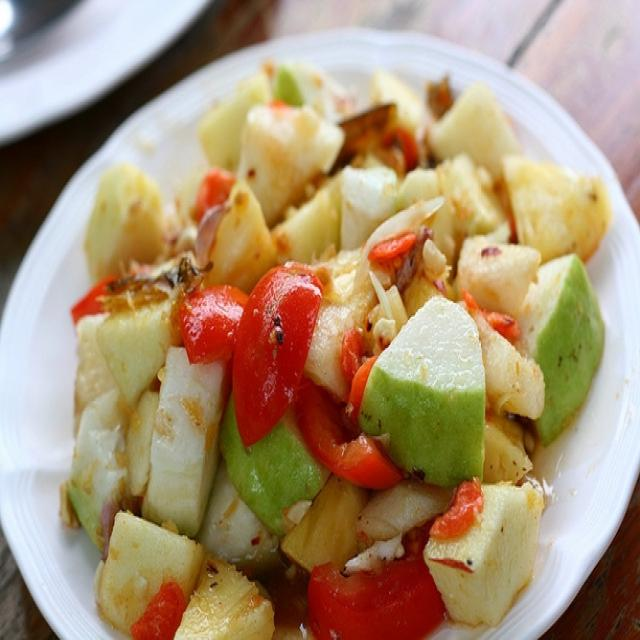蔬菜料理: (40, 43, 610, 622)
